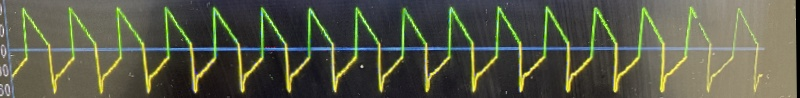peepi: (2, 0, 775, 98)
